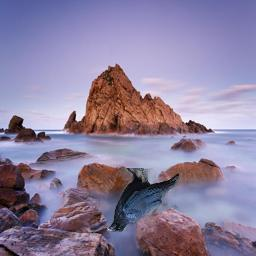Crow: (107, 168, 179, 232)
